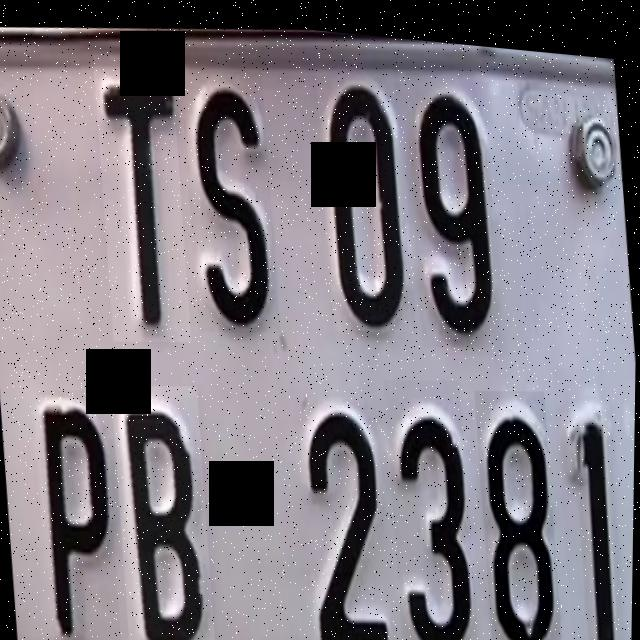0: (312, 54, 416, 330)
1: (549, 352, 631, 640)
3: (382, 364, 485, 640)
8: (471, 374, 569, 640)
9: (399, 57, 505, 344)
B: (109, 375, 221, 640)
P: (35, 382, 127, 640)
S: (177, 60, 284, 334)
T: (89, 45, 196, 345)
